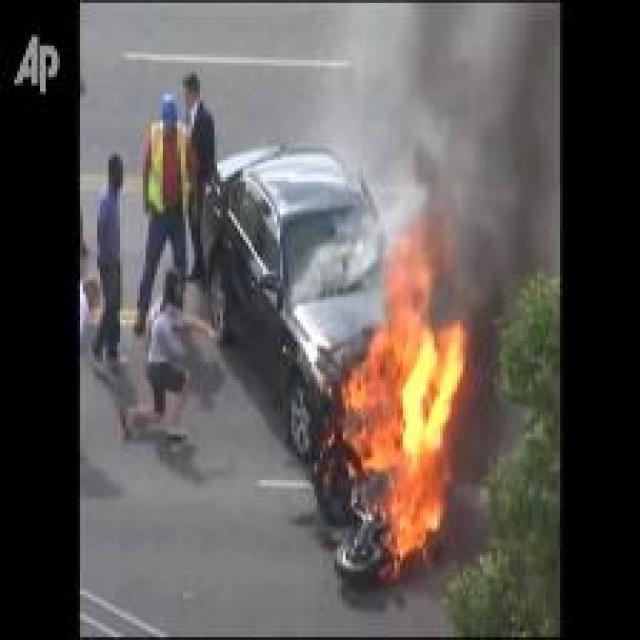Fire: (344, 222, 464, 558)
